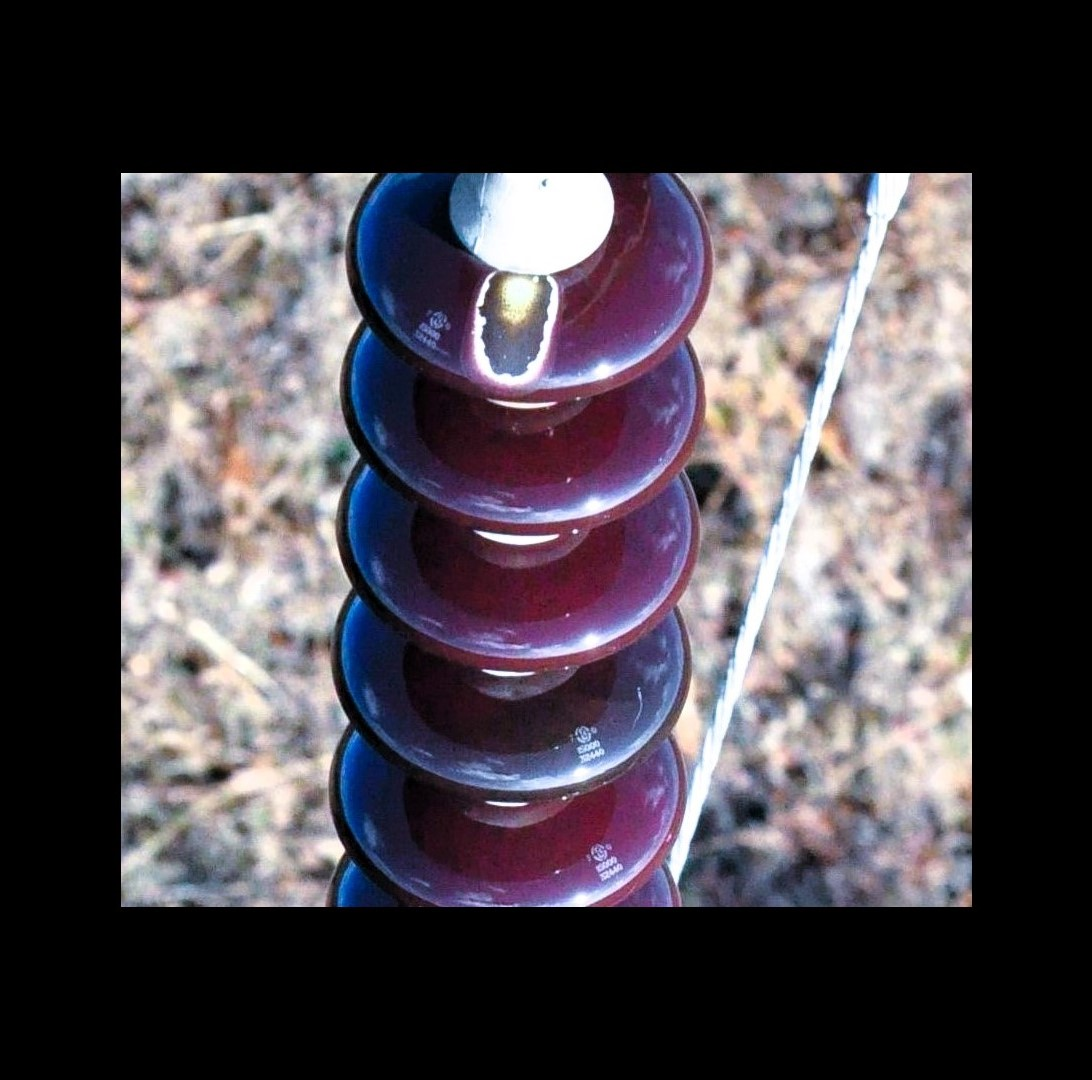Insulator flashover: (333, 170, 720, 404)
